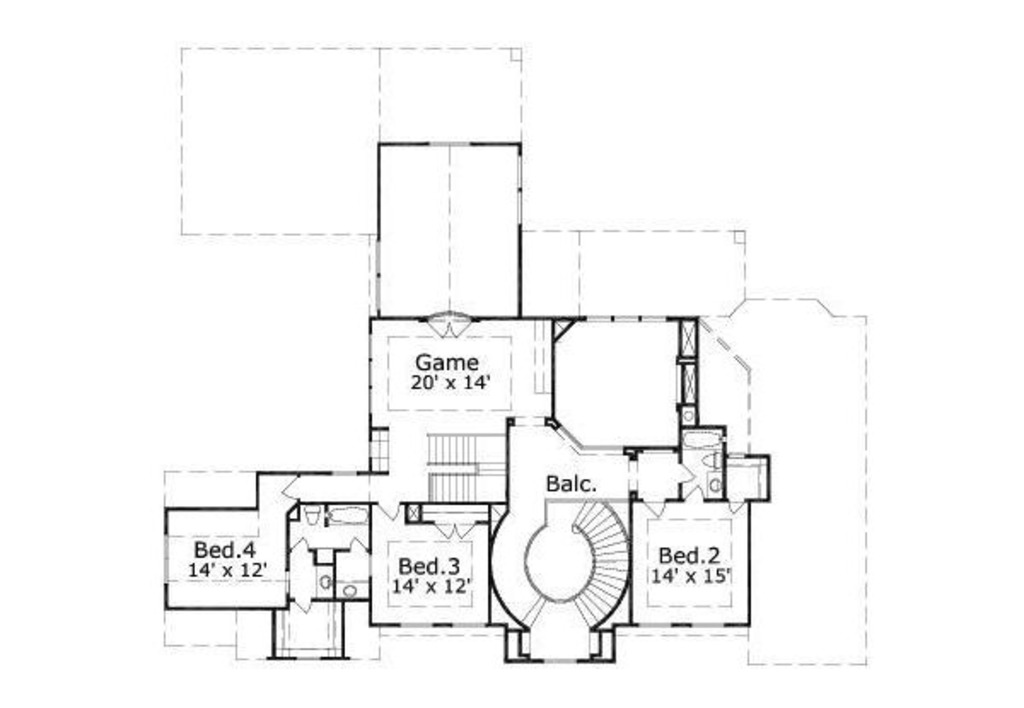door: (424, 308, 476, 342), (279, 467, 318, 500), (643, 493, 671, 527), (291, 588, 326, 615), (439, 520, 474, 545), (670, 454, 699, 483), (374, 497, 405, 523), (338, 532, 366, 553), (289, 534, 318, 554), (686, 485, 705, 506)
large_sink: (296, 505, 323, 530), (700, 450, 722, 467)
small_sink: (701, 470, 726, 503), (341, 580, 374, 603)
stairs: (418, 419, 510, 509), (564, 506, 626, 629)
tub: (331, 505, 373, 529), (685, 427, 724, 451)
window: (585, 306, 667, 329), (366, 237, 389, 316), (516, 144, 528, 226), (426, 137, 471, 155)
